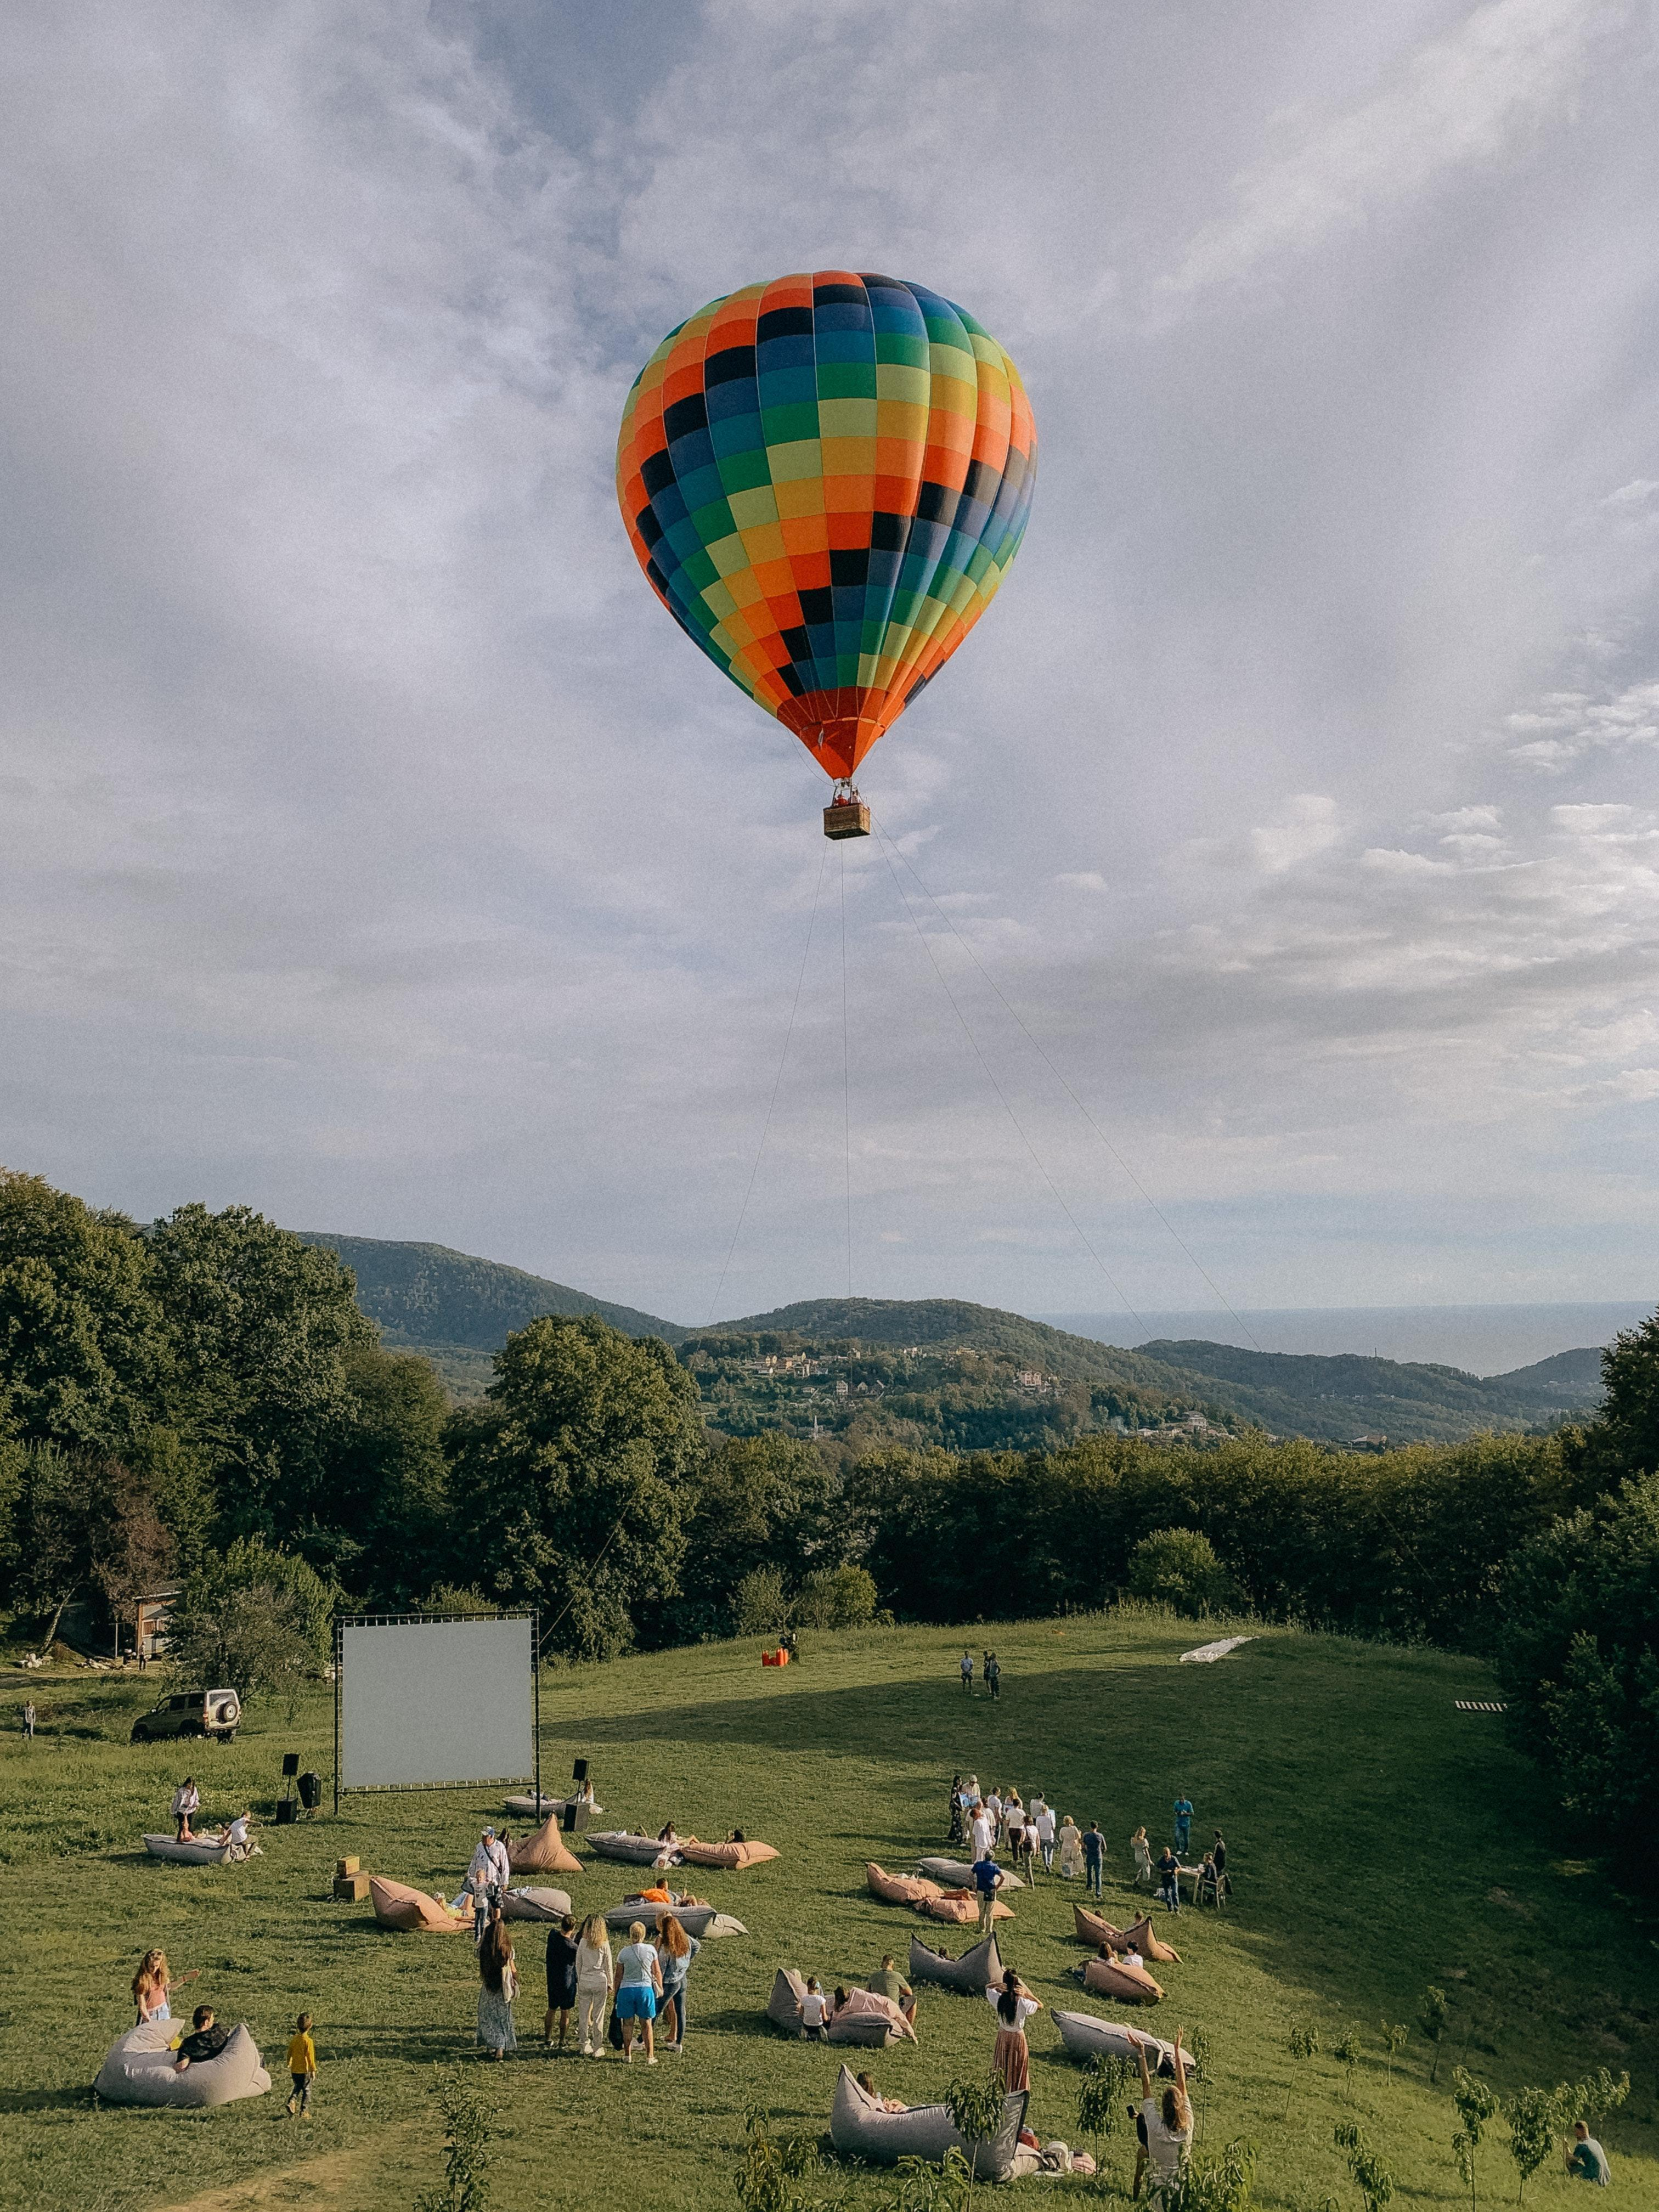hot air ballon: (606, 253, 1046, 871)
